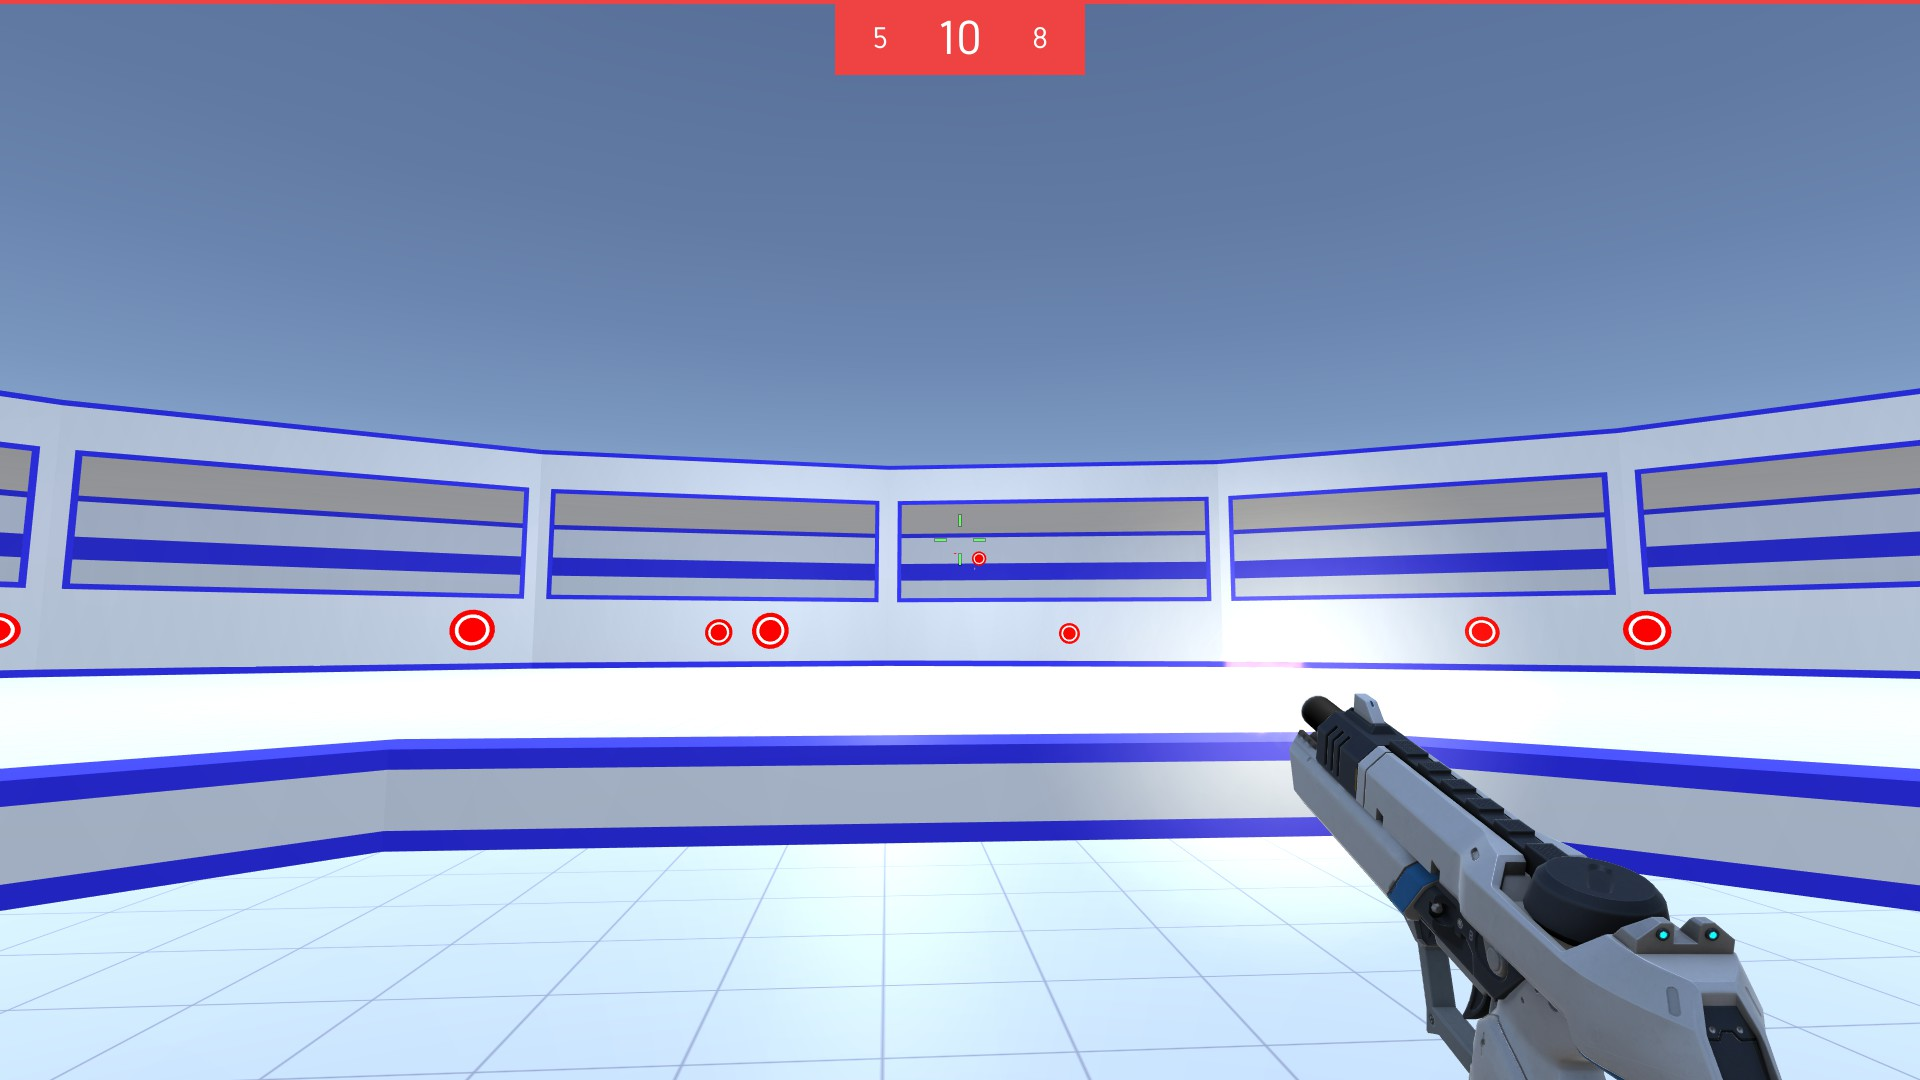target: (448, 607, 496, 651), (1625, 609, 1672, 649), (750, 611, 791, 651), (1462, 615, 1501, 647), (703, 616, 735, 645), (1, 611, 24, 644), (1058, 622, 1084, 644), (971, 551, 986, 566)
